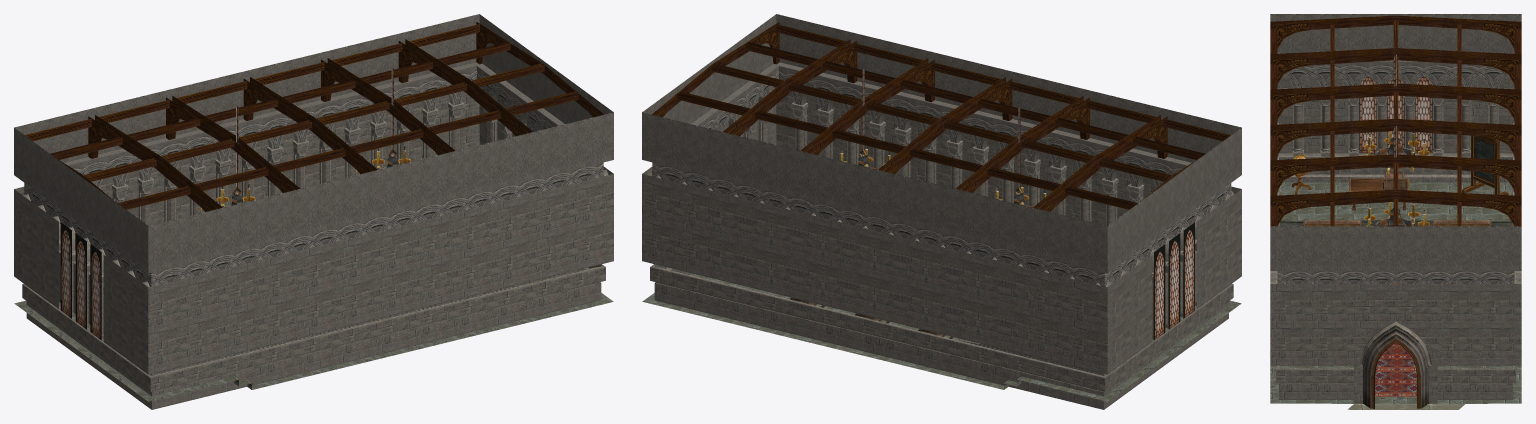
The model's file is transfiguration_class.glb.
3 renders of one model, left to right at view 1: azimuth 30°, elevation 25°; view 2: azimuth 150°, elevation 25°; view 3: azimuth 270°, elevation 25°, orthographic. The views are drawn at different scales.
Parts seen in each view (by area): view 1: Mesh_0114_Tex_0036_0.dds_0, Mesh_0109_Tex_0031_0.dds_0, Mesh_0121_Tex_0036_0.dds_0, Mesh_0104_Tex_0030_0.dds_0, Mesh_0087_Tex_0031_0.dds_0, Mesh_0106_Tex_0030_0.dds_0, Mesh_0089_Tex_0033_0.dds_0, Mesh_0122_Tex_0031_0.dds_0, Mesh_0059_Tex_0015_0.dds_0, Mesh_0243_Material #20_0, Mesh_0105_Tex_0040_0.dds_0, Mesh_0112_Tex_0034_0.dds_0 (+6 smaller); view 2: Mesh_0114_Tex_0036_0.dds_0, Mesh_0109_Tex_0031_0.dds_0, Mesh_0104_Tex_0030_0.dds_0, Mesh_0121_Tex_0036_0.dds_0, Mesh_0087_Tex_0031_0.dds_0, Mesh_0128_Tex_0036_0.dds_0, Mesh_0089_Tex_0033_0.dds_0, Mesh_0106_Tex_0030_0.dds_0, Mesh_0059_Tex_0015_0.dds_0, Mesh_0122_Tex_0031_0.dds_0, Mesh_0243_Material #20_0, Mesh_0105_Tex_0040_0.dds_0 (+5 smaller); view 3: Mesh_0121_Tex_0036_0.dds_0, Mesh_0109_Tex_0031_0.dds_0, Mesh_0122_Tex_0031_0.dds_0, Mesh_0104_Tex_0030_0.dds_0, Mesh_0128_Tex_0036_0.dds_0, Mesh_0114_Tex_0036_0.dds_0, Mesh_0105_Tex_0040_0.dds_0, Mesh_0059_Tex_0015_0.dds_0, Mesh_0086_Tex_0030_0.dds_0, Mesh_0106_Tex_0030_0.dds_0, Mesh_0116_Tex_0031_0.dds_0, Mesh_0117_Tex_0036_0.dds_0 (+22 smaller).
Part boxes in pixels (<box>): Mesh_0114_Tex_0036_0.dds_0: <box>14,92,613,409</box>; Mesh_0109_Tex_0031_0.dds_0: <box>14,14,613,286</box>; Mesh_0121_Tex_0036_0.dds_0: <box>111,116,613,409</box>; Mesh_0104_Tex_0030_0.dds_0: <box>24,32,576,209</box>; Mesh_0087_Tex_0031_0.dds_0: <box>24,66,603,286</box>; Mesh_0106_Tex_0030_0.dds_0: <box>169,24,588,162</box>; Mesh_0089_Tex_0033_0.dds_0: <box>21,86,605,392</box>; Mesh_0122_Tex_0031_0.dds_0: <box>477,14,613,159</box>; Mesh_0059_Tex_0015_0.dds_0: <box>14,293,613,401</box>; Mesh_0243_Material #20_0: <box>60,222,101,340</box>; Mesh_0105_Tex_0040_0.dds_0: <box>88,39,455,211</box>; Mesh_0112_Tex_0034_0.dds_0: <box>59,102,514,339</box>; Mesh_0114_Tex_0036_0.dds_0: <box>642,92,1241,409</box>; Mesh_0109_Tex_0031_0.dds_0: <box>642,33,1241,286</box>; Mesh_0104_Tex_0030_0.dds_0: <box>677,24,1230,209</box>; Mesh_0121_Tex_0036_0.dds_0: <box>724,88,1241,409</box>; Mesh_0087_Tex_0031_0.dds_0: <box>652,67,1231,286</box>; Mesh_0128_Tex_0036_0.dds_0: <box>642,167,899,323</box>; Mesh_0089_Tex_0033_0.dds_0: <box>647,86,1234,391</box>; Mesh_0106_Tex_0030_0.dds_0: <box>667,35,1049,157</box>; Mesh_0059_Tex_0015_0.dds_0: <box>642,273,1241,401</box>; Mesh_0122_Tex_0031_0.dds_0: <box>642,14,853,123</box>; Mesh_0243_Material #20_0: <box>1153,222,1194,340</box>; Mesh_0105_Tex_0040_0.dds_0: <box>772,22,1167,211</box>; Mesh_0121_Tex_0036_0.dds_0: <box>1270,179,1437,399</box>; Mesh_0109_Tex_0031_0.dds_0: <box>1270,14,1521,283</box>; Mesh_0122_Tex_0031_0.dds_0: <box>1270,226,1521,283</box>; Mesh_0104_Tex_0030_0.dds_0: <box>1311,15,1480,161</box>; Mesh_0128_Tex_0036_0.dds_0: <box>1437,284,1521,399</box>; Mesh_0114_Tex_0036_0.dds_0: <box>1276,75,1515,399</box>; Mesh_0105_Tex_0040_0.dds_0: <box>1270,20,1521,226</box>; Mesh_0059_Tex_0015_0.dds_0: <box>1270,182,1521,403</box>; Mesh_0086_Tex_0030_0.dds_0: <box>1270,21,1521,226</box>; Mesh_0106_Tex_0030_0.dds_0: <box>1311,118,1480,226</box>; Mesh_0116_Tex_0031_0.dds_0: <box>1354,226,1451,283</box>; Mesh_0117_Tex_0036_0.dds_0: <box>1354,284,1437,403</box>.
Size of the model in its own units: 47.03 by 20.85 by 22.88.
Materials: 34 (34 with a texture image).
